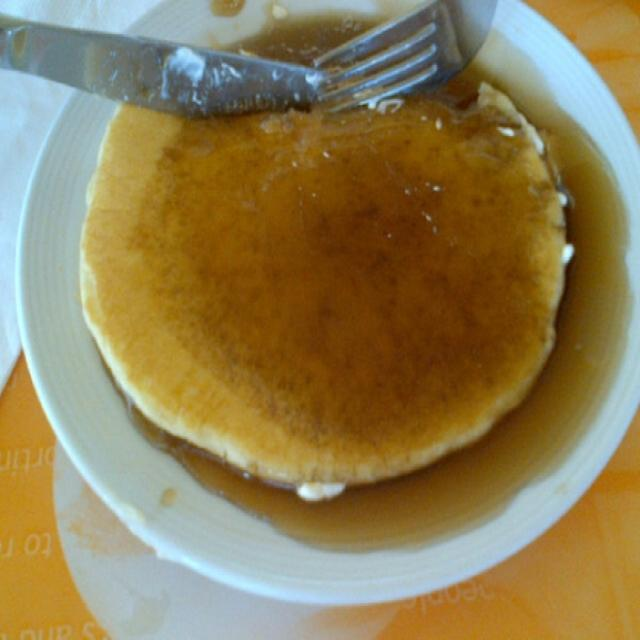蛋糕甜品: (73, 21, 578, 501)
